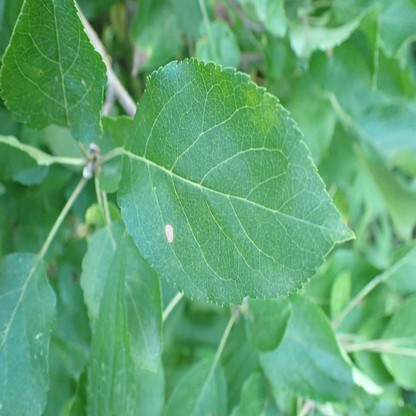frogeye_leaf_spot: (165, 223, 174, 244)
